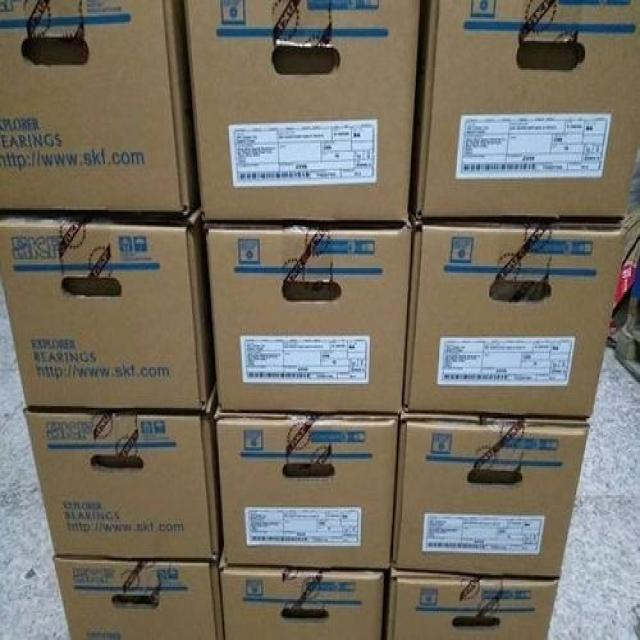box: (183, 1, 420, 222), (410, 2, 639, 223), (402, 212, 624, 422), (0, 0, 196, 218), (0, 215, 217, 409), (203, 222, 413, 412), (21, 390, 222, 561), (390, 417, 589, 576), (215, 412, 397, 570), (217, 542, 385, 638), (53, 559, 224, 638), (385, 572, 559, 638)
